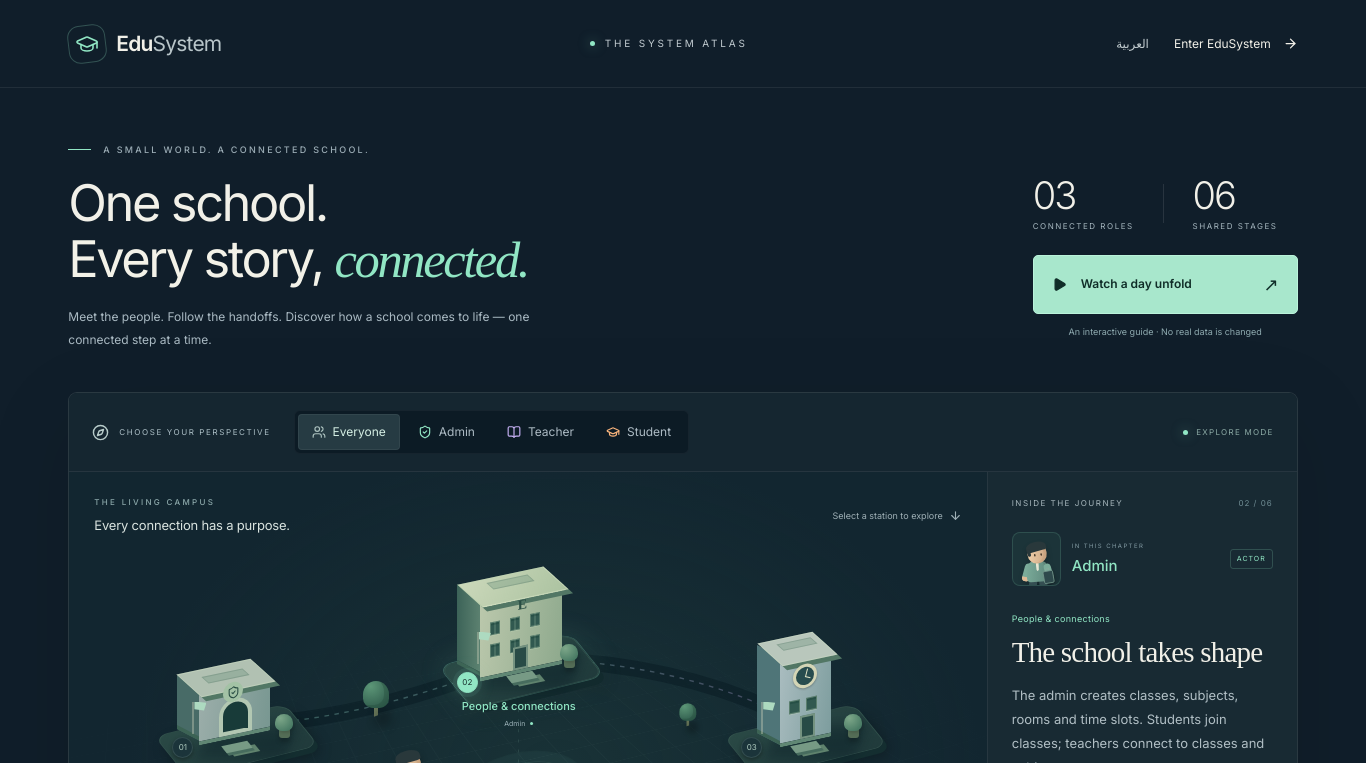
Test: school system journey › lets visitors explore a role without granting a signed-in workspace
Click the button "Teacher" at x=540, y=432, box [493,414,588,450]
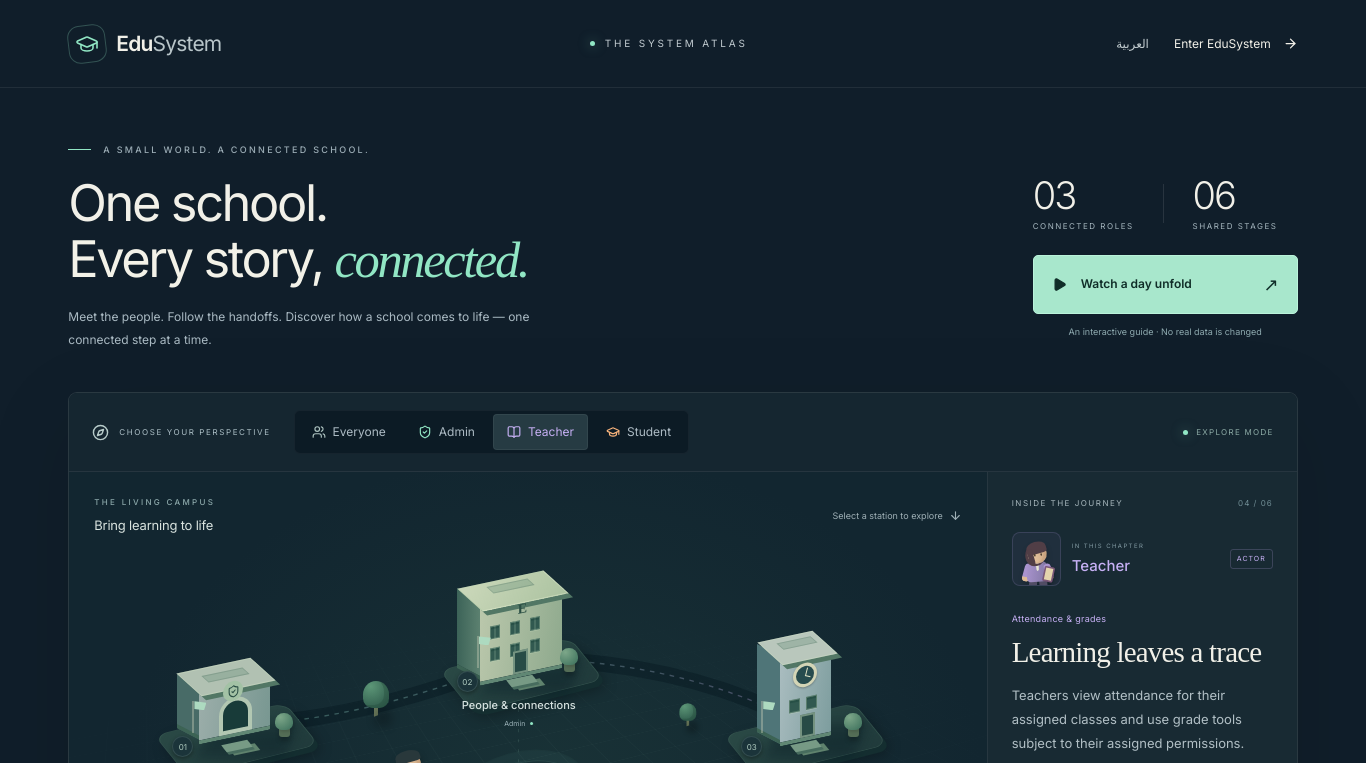
Now the heading "Learning leaves a trace" is shown, box [1012,636,1273,669]
